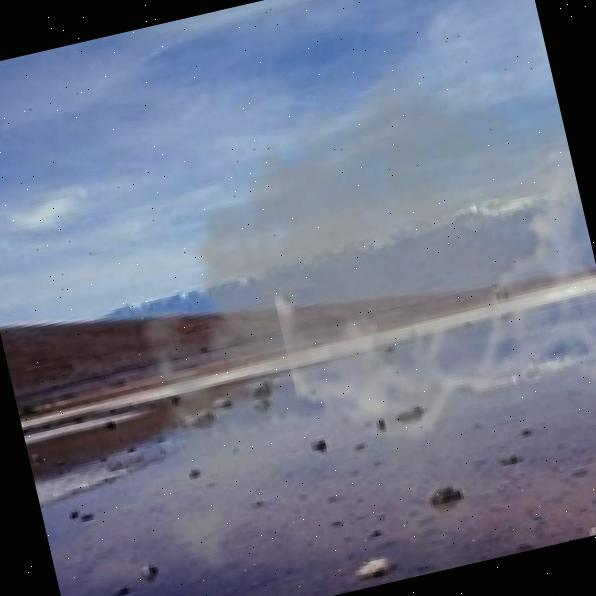smoke: (56, 13, 596, 596)
